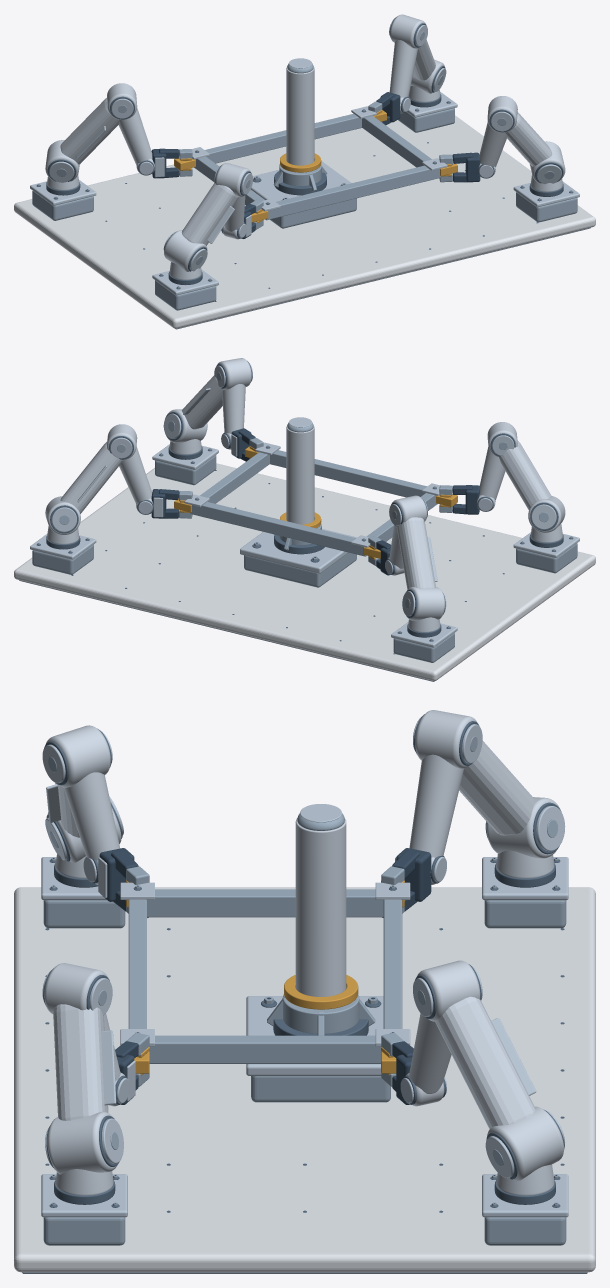
The model's file is four-arm.glb.
3 renders of one model, top to bottom at view 1: azimuth 30°, elevation 25°; view 2: azimuth 150°, elevation 25°; view 3: azimuth 270°, elevation 25°, orthographic. The views are drawn at different scales.
Parts seen in each view (by area): view 1: Fixture.work_surface, Frame.long_rail-1, Post.steel_column, Frame.long_rail1, ARM_C.upper_arm, ARM_A.upper_arm, ARM_D.upper_arm, Frame.side_rail1, ARM_B.forearm, Post.mounting_plinth, Post.flange_plate, ARM_A.forearm (+23 smaller); view 2: Fixture.work_surface, Frame.long_rail1, Post.steel_column, Frame.long_rail-1, ARM_A.upper_arm, Post.flange_plate, ARM_B.upper_arm, ARM_C.upper_arm, Post.mounting_plinth, Frame.side_rail1, ARM_D.upper_arm, ARM_B.forearm (+22 smaller); view 3: Fixture.work_surface, Post.steel_column, ARM_B.upper_arm, Frame.side_rail1, ARM_D.upper_arm, Frame.side_rail-1, ARM_A.upper_arm, ARM_A.forearm, Post.mounting_plinth, Post.flange_plate, ARM_C.forearm, ARM_D.shoulder.shell (+29 smaller).
Boxes of the visible parts, x1,y1,x2,y2 form: Fixture.work_surface: (14, 115, 595, 328); Frame.long_rail-1: (265, 165, 441, 220); Post.steel_column: (286, 66, 314, 165); Frame.long_rail1: (205, 113, 361, 163); ARM_C.upper_arm: (181, 183, 238, 245); ARM_A.upper_arm: (60, 98, 119, 164); ARM_D.upper_arm: (505, 112, 552, 166); Frame.side_rail1: (362, 116, 431, 167); ARM_B.forearm: (389, 40, 418, 97); Post.mounting_plinth: (270, 198, 356, 228); Post.flange_plate: (251, 161, 351, 201); ARM_A.forearm: (118, 107, 152, 164); Fixture.work_surface: (14, 463, 595, 681); Frame.long_rail1: (190, 502, 366, 556); Post.steel_column: (286, 425, 314, 524); Frame.long_rail-1: (270, 450, 426, 497); ARM_A.upper_arm: (396, 517, 435, 589); Post.flange_plate: (240, 529, 357, 573); ARM_B.upper_arm: (60, 441, 122, 513); ARM_C.upper_arm: (499, 441, 552, 509); Post.mounting_plinth: (244, 552, 356, 587); Frame.side_rail1: (200, 452, 269, 503); ARM_D.upper_arm: (182, 375, 223, 429); ARM_B.forearm: (119, 446, 152, 503); Fixture.work_surface: (14, 887, 595, 1272); Post.steel_column: (295, 818, 346, 996); ARM_B.upper_arm: (435, 996, 535, 1128); Frame.side_rail1: (149, 1035, 380, 1063); ARM_D.upper_arm: (53, 1004, 108, 1120); Frame.side_rail-1: (147, 889, 383, 917); ARM_A.upper_arm: (459, 741, 535, 835); ARM_A.forearm: (409, 754, 463, 857); Post.mounting_plinth: (251, 1076, 390, 1102); Post.flange_plate: (246, 996, 383, 1075); ARM_C.forearm: (63, 772, 120, 860); ARM_D.shoulder.shell: (47, 1111, 117, 1174).
Size of the model in its own units: 7.1 by 2.49 by 4.7.
